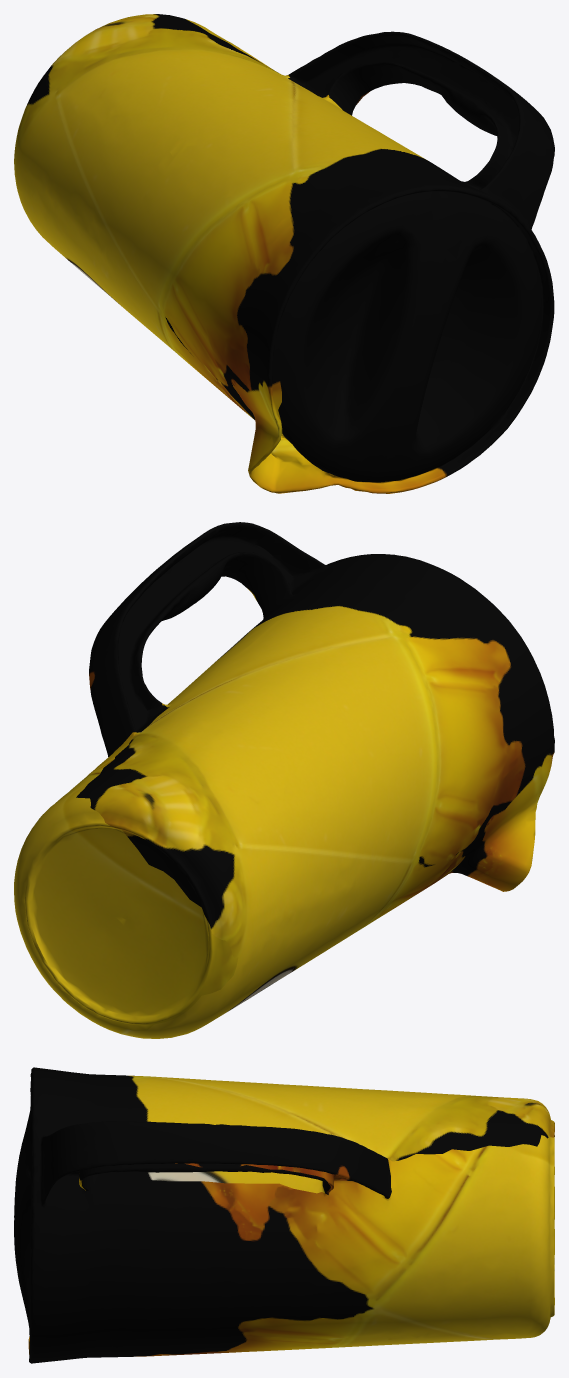
3 views of the same model, one above another, from view 1: azimuth 30°, elevation 25°; view 2: azimuth 150°, elevation 25°; view 3: azimuth 270°, elevation 25° (orthographic). The views are drawn at different scales.
Bounding box in the file's own units: 0.1491 × 0.1448 × 0.2424.
